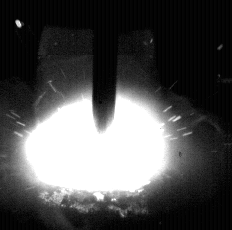arame: (92, 0, 117, 133)
poca: (25, 0, 167, 230)
